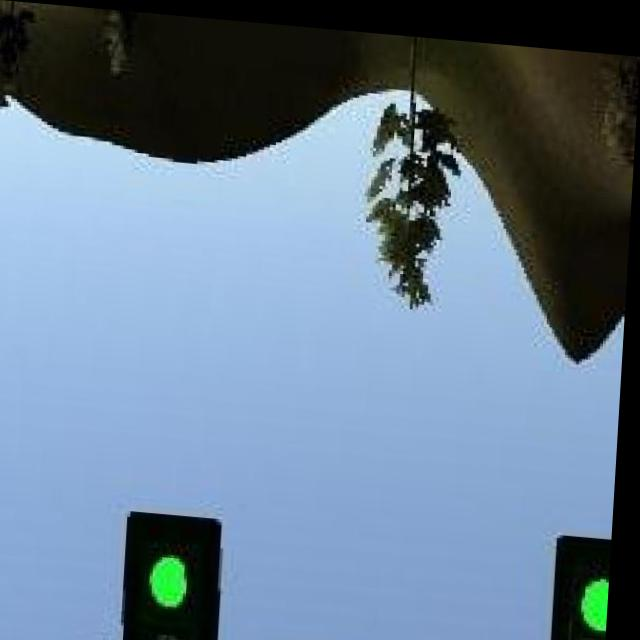green light: (125, 505, 229, 640), (553, 526, 617, 640)
